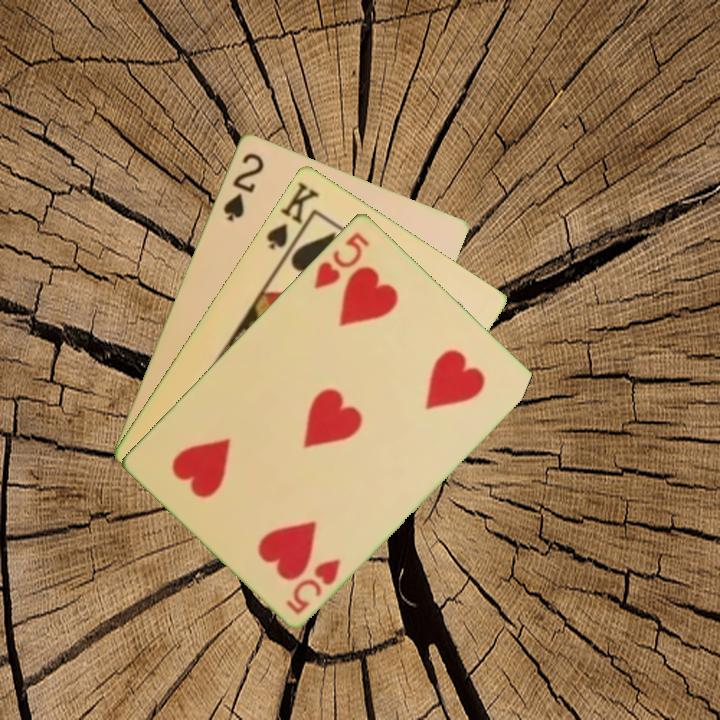2s: (219, 148, 267, 224)
5h: (310, 228, 373, 291), (282, 554, 343, 617)
Ks: (262, 177, 322, 260)
